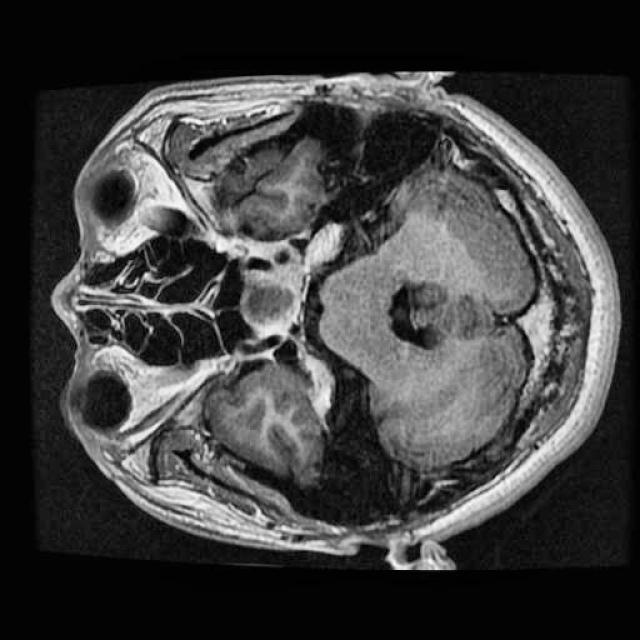Tumor: (231, 254, 312, 344)
